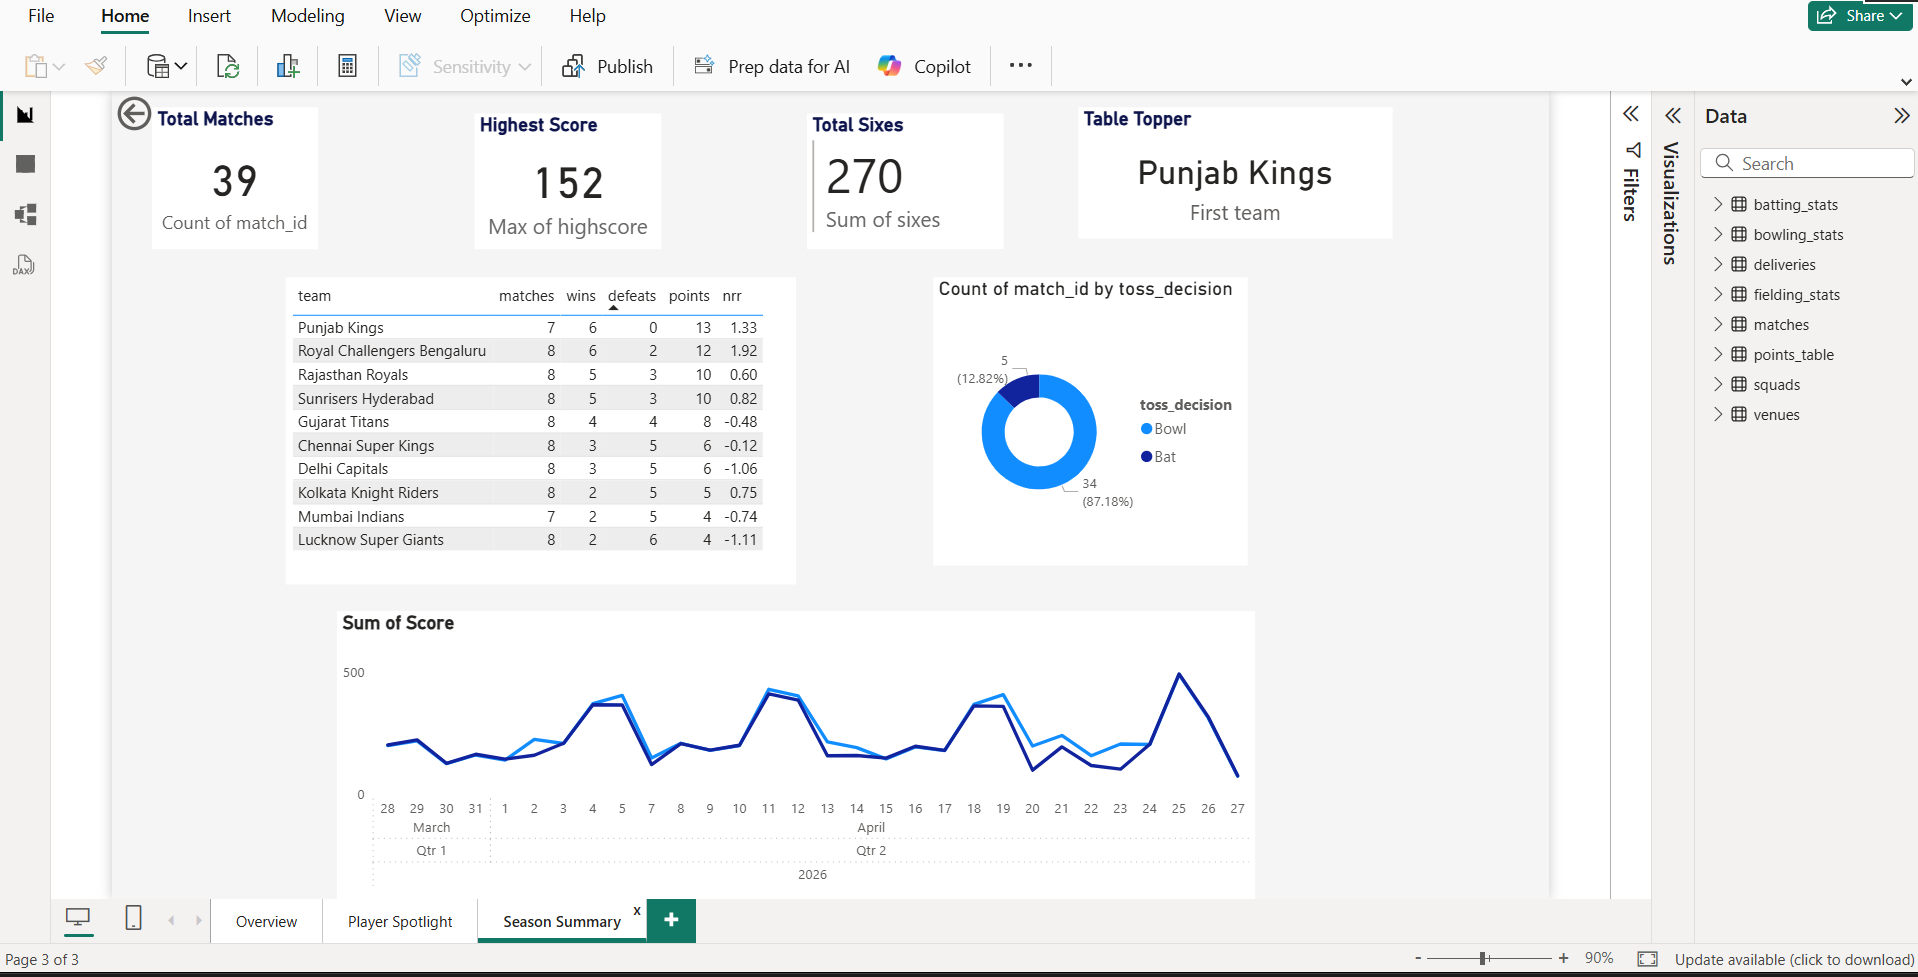

The page's visual inventory and layout, read from the dashboard file:
{"tool":"powerbi","page":{"name":"Season Summary","canvas":[1280,720],"ordinal":2},"visuals":[{"type":"card","title":"Total Matches","fields":{"Values":["CountNonNull(matches.match_id)"]},"box":[35.6,14.4,147.8,126.7],"z":0},{"type":"card","title":"Highest Score","fields":{"Values":["Max(matches.highscore)"]},"box":[323.3,20,166.7,121.1],"z":1000},{"type":"card","title":"Table Topper","fields":{"Values":["Min(points_table.team)"]},"box":[860,14.4,280,116.7],"z":2000},{"type":"multiRowCard","title":"Total Sixes","fields":{"Values":["Sum(batting_stats.sixes)"]},"box":[618.9,20,175.6,121.1],"z":3000},{"type":"tableEx","fields":{"Values":["points_table.team","points_table.matches","points_table.wins","points_table.defeats","points_table.points","points_table.nrr"]},"box":[154.4,165.6,454.4,273.3],"z":4000},{"type":"actionButton","box":[0,0,100,40],"z":5000},{"type":"lineChart","title":"Sum of Score","fields":{"Y":["Sum(matches.first_ings_score)","Sum(matches.second_ings_score)"],"Category":["matches.date.Variation.Date Hierarchy.Year","matches.date.Variation.Date Hierarchy.Quarter","matches.date.Variation.Date Hierarchy.Month","matches.date.Variation.Date Hierarchy.Day"]},"box":[200,463.3,817.8,256.7],"z":6000},{"type":"donutChart","fields":{"Category":["matches.toss_decision"],"Y":["CountNonNull(matches.match_id)"]},"box":[731.1,165.6,280,256.7],"z":7000}]}

Visuals, with their boxes on the page's 1280x720 design canvas (x1, y1, x2, y2). These are canvas units, not pixel positions in the 1918x977 screenshot, which may show the page scaled, cropped or inside an application window:
"Total Matches" card: x1=36, y1=14, x2=183, y2=141
"Highest Score" card: x1=323, y1=20, x2=490, y2=141
"Table Topper" card: x1=860, y1=14, x2=1140, y2=131
"Total Sixes" multiRowCard: x1=619, y1=20, x2=794, y2=141
tableEx - points_table.team x points_table.matches: x1=154, y1=166, x2=609, y2=439
actionButton: x1=0, y1=0, x2=100, y2=40
"Sum of Score" lineChart: x1=200, y1=463, x2=1018, y2=720
donutChart - matches.toss_decision x CountNonNull(matches.match_id): x1=731, y1=166, x2=1011, y2=422
